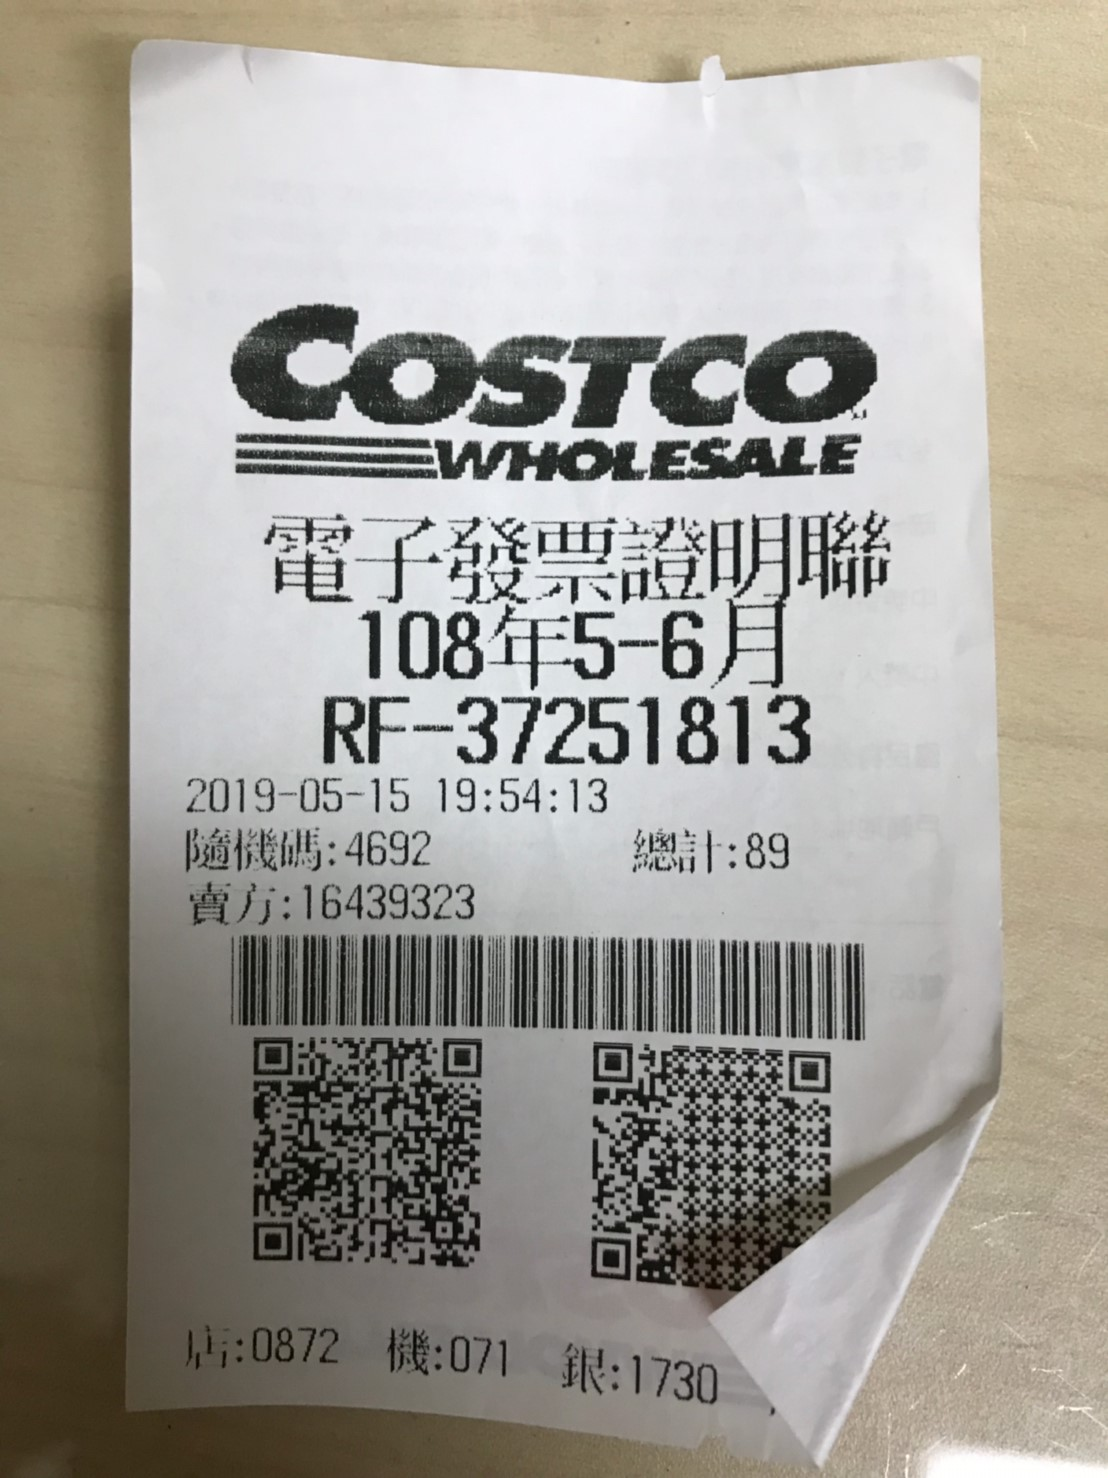Date_New: (353, 603, 795, 690)
Number_New: (459, 690, 812, 765)
